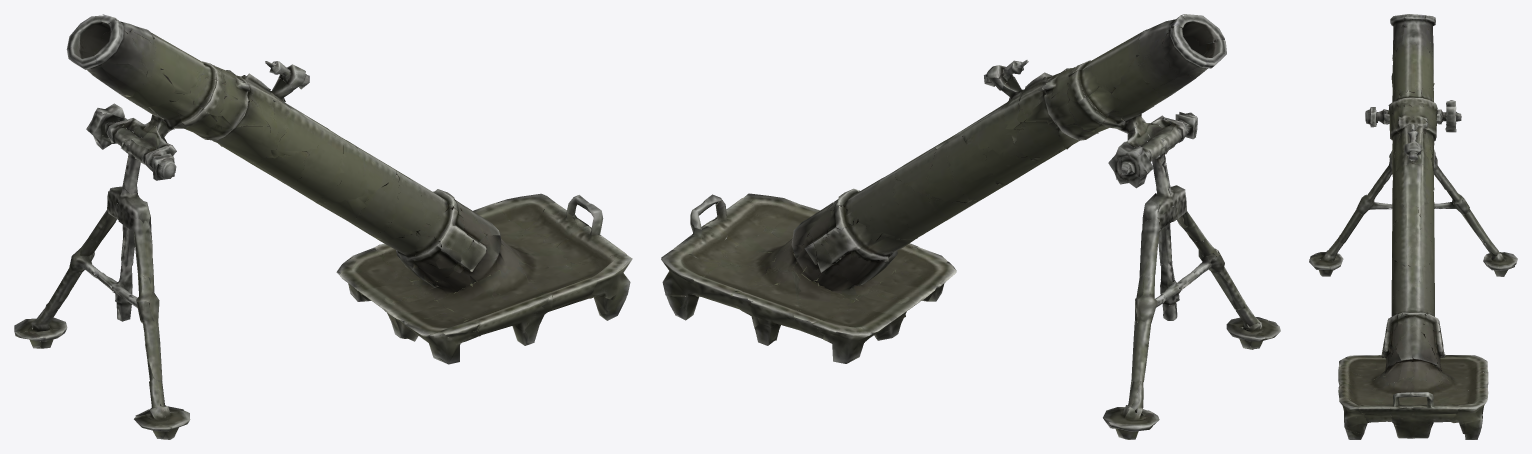
File: meshy_mortier.glb
The picture shows the model from 3 angles, left to right: view 1: azimuth 30°, elevation 25°; view 2: azimuth 150°, elevation 25°; view 3: azimuth 270°, elevation 25°; orthographic projection. The views are drawn at different scales.
Visible parts, largest first — view 1: Mesh_0; view 2: Mesh_0; view 3: Mesh_0.
Part boxes in pixels (bbox=[...]): Mesh_0: bbox=[14, 14, 632, 439]; Mesh_0: bbox=[661, 14, 1280, 439]; Mesh_0: bbox=[1309, 14, 1517, 439].
Size of the model in its own units: 1.88 by 1.36 by 0.9224.
1 material, 1 textured.
